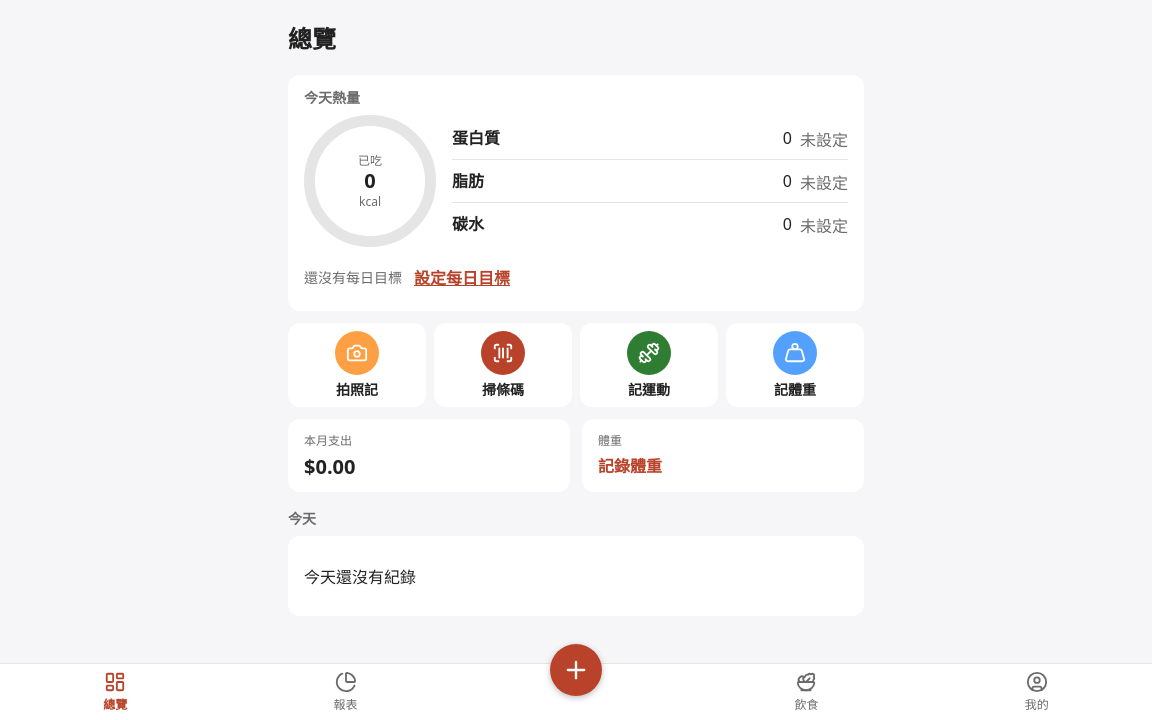
Test case: App › 從「＋」點「記體重」：到 /weight、焦點在體重欄位（首頁改版規格 §7）
expect the heading "總覽" is shown: met, box x1=288 y1=22 x2=336 y2=55
Click the button named "新增紀錄" at (576, 670), box x1=550 y1=644 x2=602 y2=696
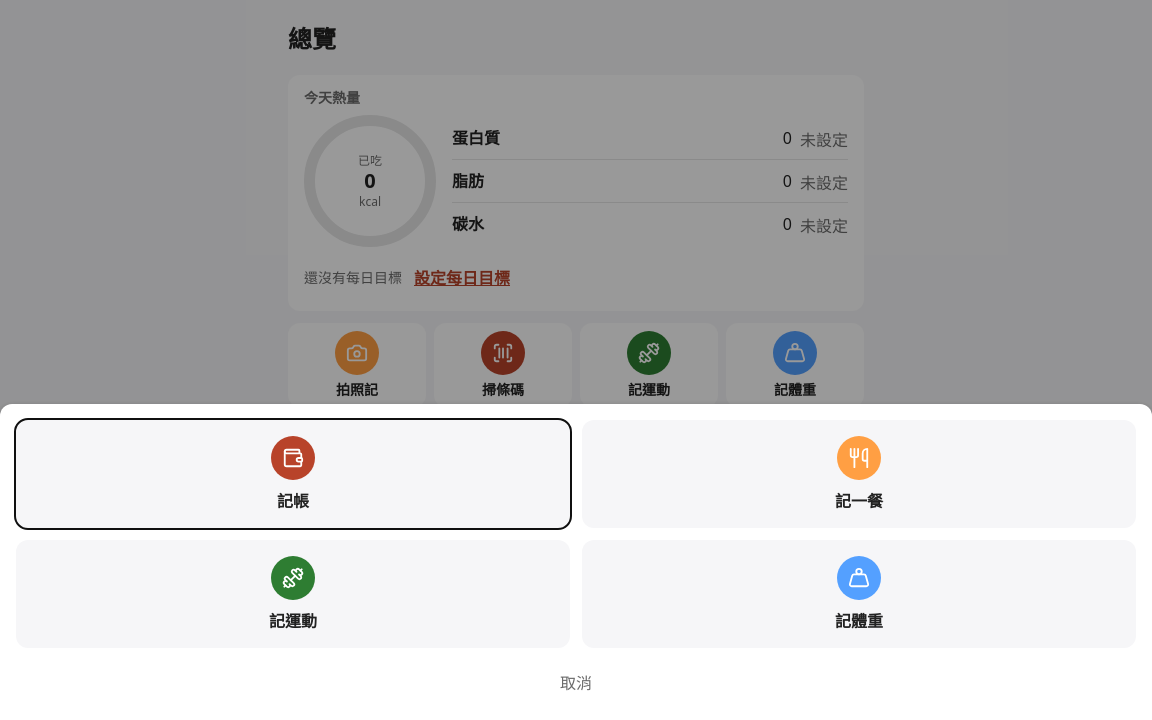
限定在對話框裡（D18）：總覽的快速記錄也有一個「記體重」。
Click the link "記體重" at (859, 594), box x1=582 y1=540 x2=1136 y2=648
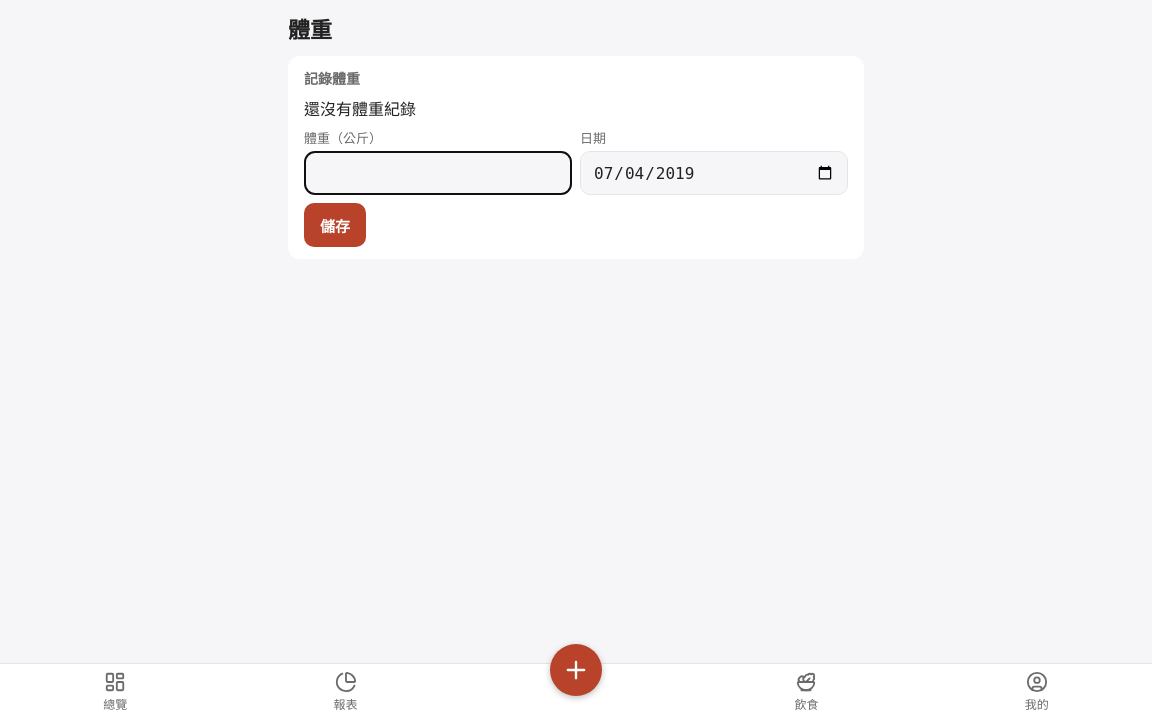
expect the heading "體重" is shown: met, box x1=288 y1=14 x2=332 y2=44
expect the dialog is gone: met
